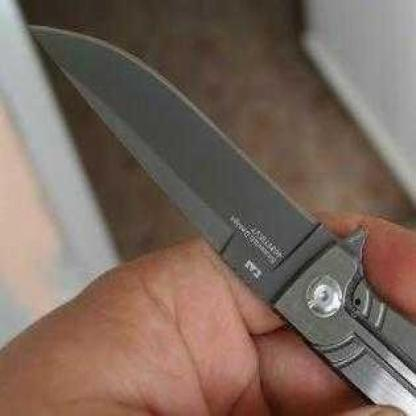Knife: (18, 17, 416, 416)
